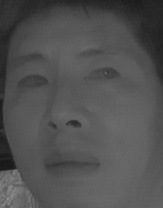eye: (84, 64, 124, 87), (13, 71, 50, 94)
mouth: (41, 146, 101, 180)
